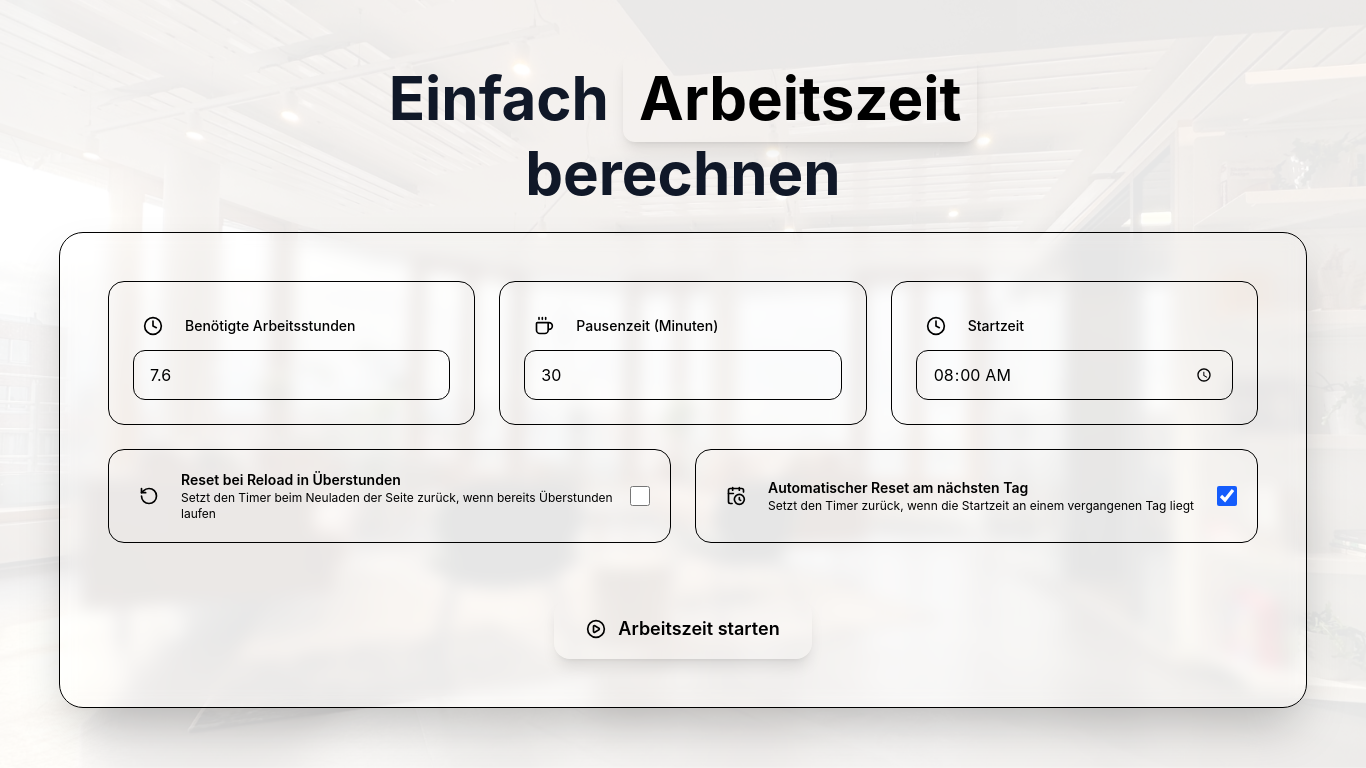
Test: WorkClock › resets the running timer back to SetupView and clears session from localStorage
Click the button "Arbeitszeit starten" at (683, 629), box [554,599,812,659]
(page scrolled)
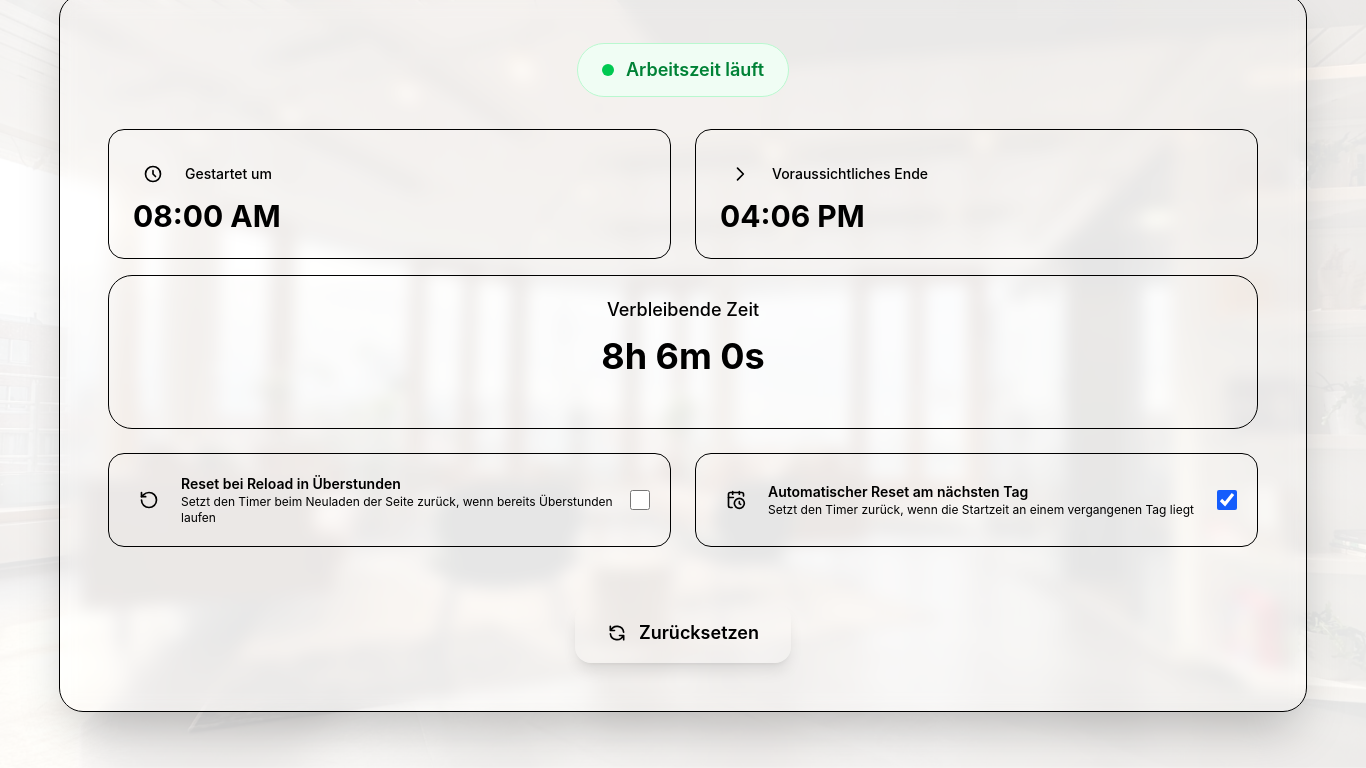
Check: the text "Arbeitszeit läuft" is shown, box [626,56,764,84]
Click the button "Zurücksetzen" at (683, 633), box [575,603,791,663]
(page scrolled)
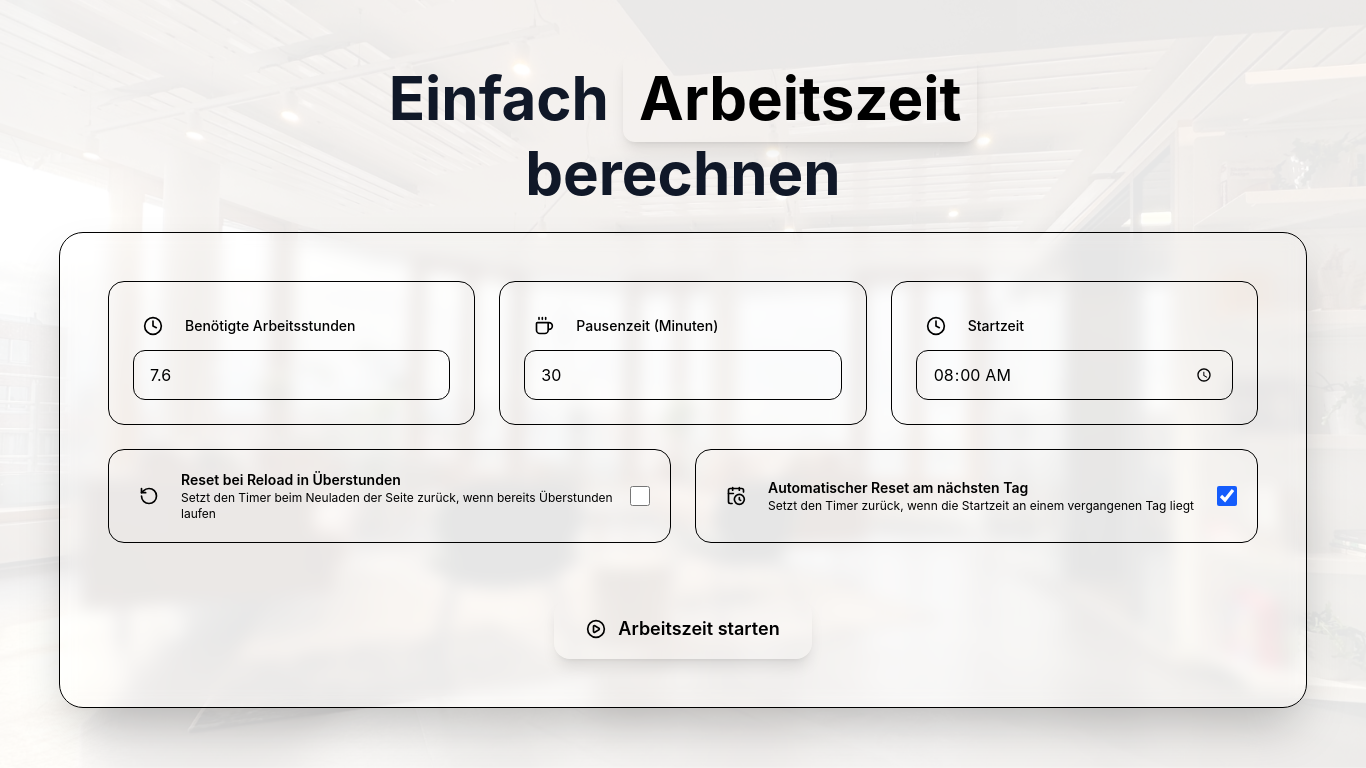
Check: the button "Arbeitszeit starten" is shown, box [554,599,812,659]
